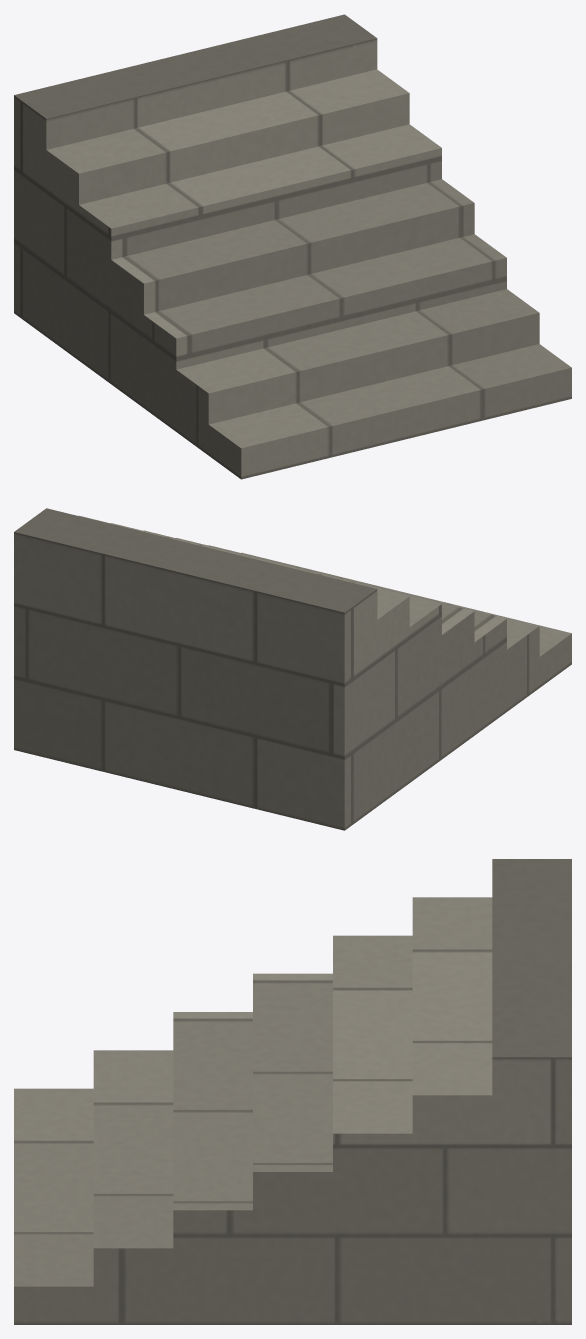
File: Stone_Stairs.fbx
3 renders of one model, top to bottom at view 1: azimuth 30°, elevation 25°; view 2: azimuth 150°, elevation 25°; view 3: azimuth 270°, elevation 25°, orthographic. The views are drawn at different scales.
Parts seen in each view (by area): view 1: Stone_Stairs.001; view 2: Stone_Stairs.001; view 3: Stone_Stairs.001.
Part boxes in pixels (x1,y1,x2,y2): Stone_Stairs.001: (14, 14, 571, 479); Stone_Stairs.001: (14, 508, 571, 830); Stone_Stairs.001: (14, 859, 571, 1324).
Size of the model in its own units: 2 by 1.26 by 2.38.
